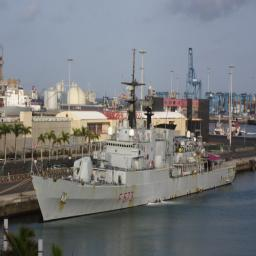Fragata: (31, 53, 238, 226)
